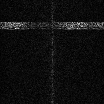wifi: (1, 21, 104, 29)
